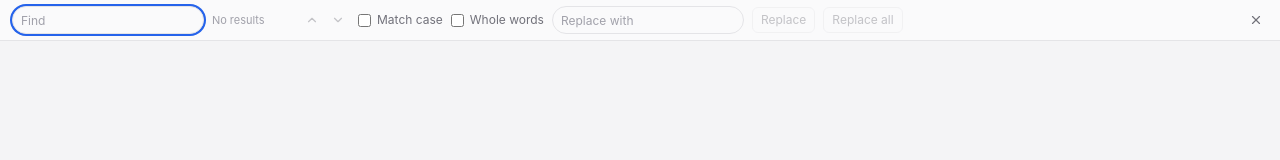
Test: FindBar › replaces all matches when replace row is shown
The width and height of the screenshot is (1280, 160).
Step 1. Type "cat" into the field labelled "Find" → (108, 20), box [12,6,204,34]
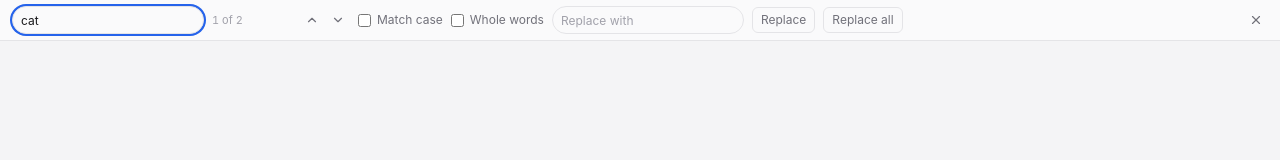
Step 2. Type "dog" into the field labelled "Replace with" → (648, 20), box [552,6,744,34]
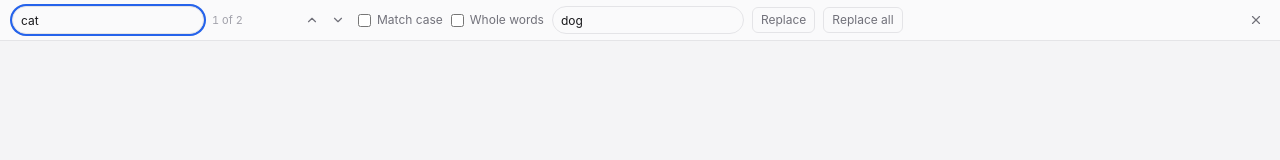
Step 3. Click the button "Replace all" → (863, 20), box [823,7,903,33]
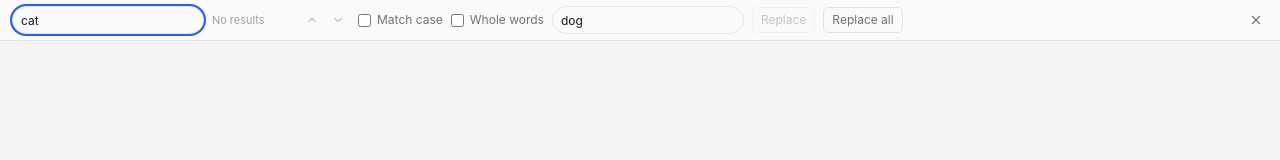
expect the text with test id "find-count" reads "No results": met, box [212,13,265,27]
